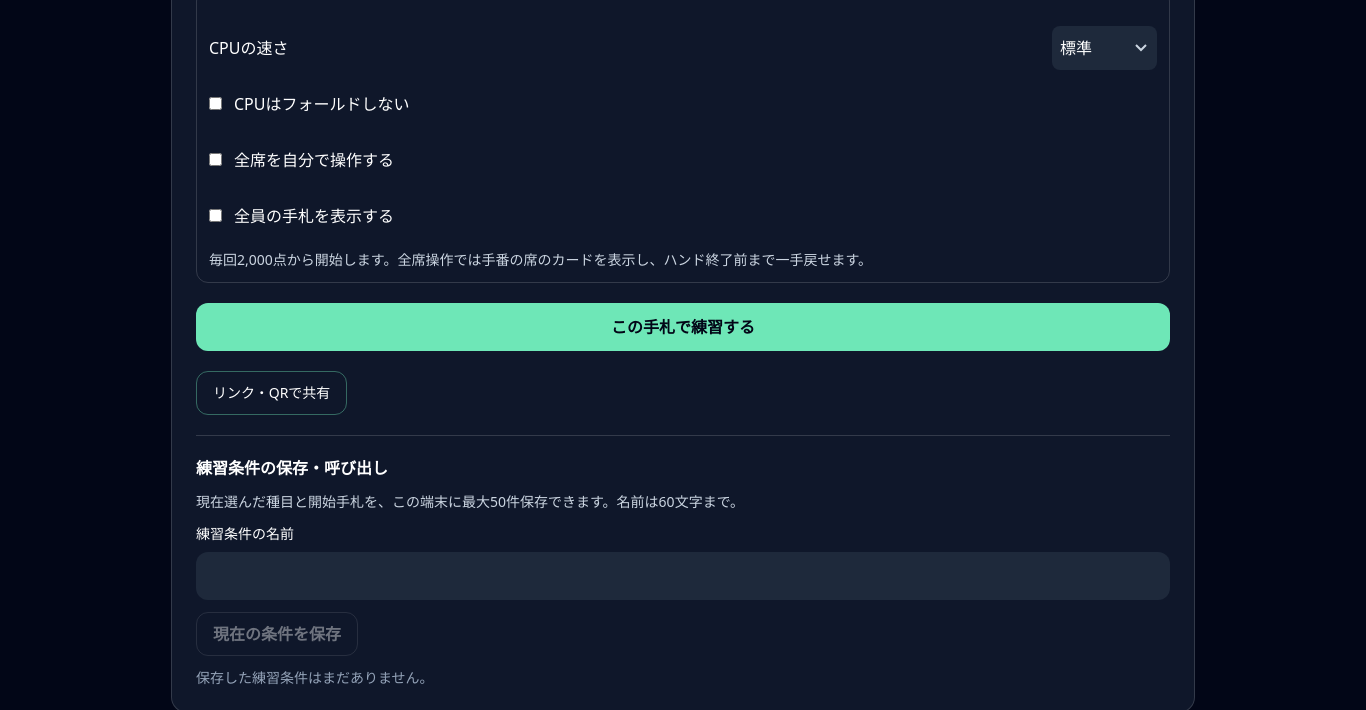
Test: stops pending CPU work when leaving a hand and preserves setup for restarting
(page scrolled)
What coordinates should you click on to do the following:
click the button "この手札で練習する"
I would click on:
 (683, 327)
Its box is x1=196 y1=303 x2=1170 y2=351.
(page scrolled)
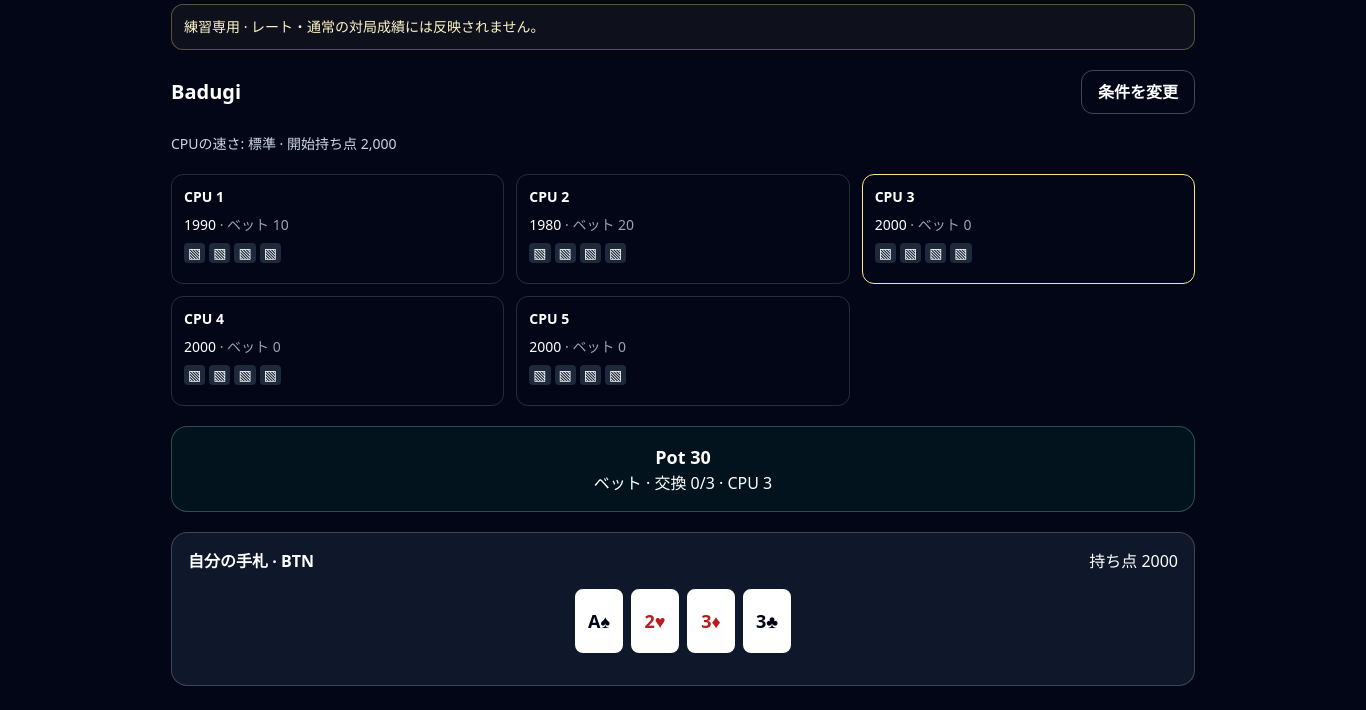
expect the element with test id "practice-table" is shown: met
What coordinates should you click on to do the following:
click the button "条件を変更"
I would click on:
 (1138, 92)
Its box is x1=1081 y1=70 x2=1195 y2=114.
Wait 2000 ms
(page scrolled)
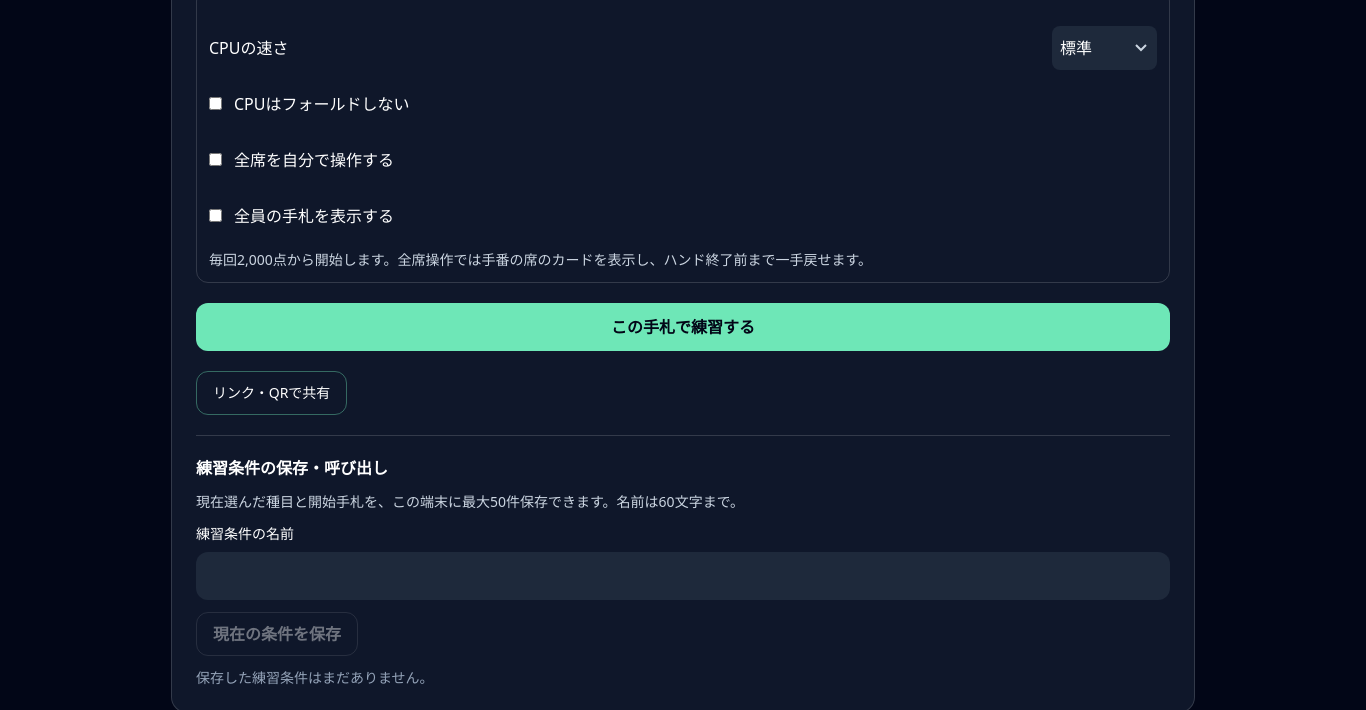
expect the button "この手札で練習する" is enabled: met, box x1=196 y1=303 x2=1170 y2=351
